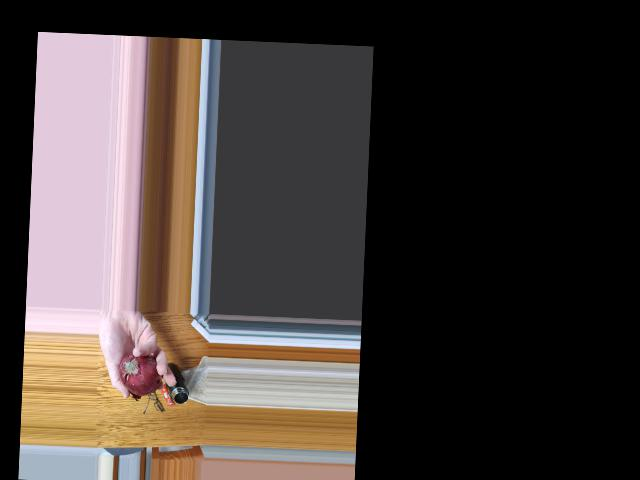onion: (119, 351, 158, 395)
